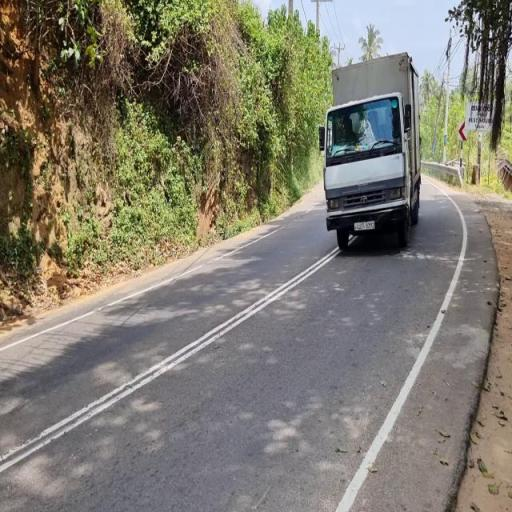double_white_line: (0, 250, 341, 480)
